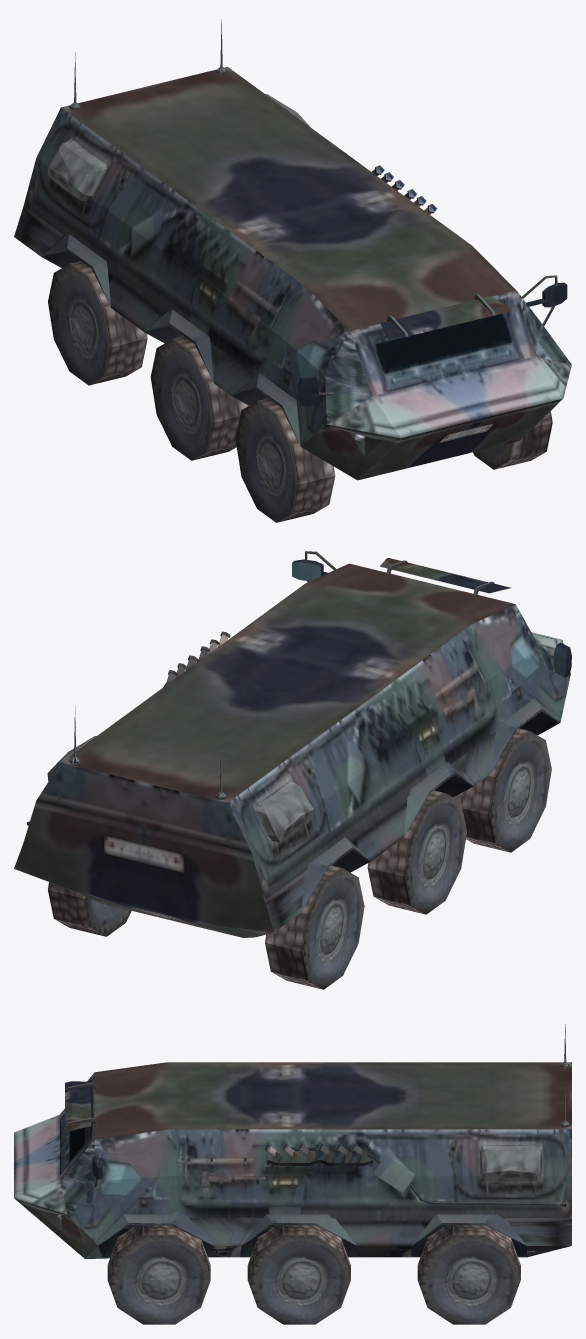
File: TPzFuchs.obj
3 views of the same model, one above another, from view 1: azimuth 30°, elevation 25°; view 2: azimuth 150°, elevation 25°; view 3: azimuth 270°, elevation 25° (orthographic). The views are drawn at different scales.
Parts seen in each view (by area): view 1: TPzFuchs.Base, WheelFroRht, WheelBckRht, WheelMidRht, WindowShield, Luggage, WheelFroLft; view 2: TPzFuchs.Base, WheelBckRht, WheelMidRht, WheelFroRht, Luggage, WheelBckLft, WindowShield; view 3: TPzFuchs.Base, WheelBckLft, WheelMidLft, WheelFroLft, Luggage, WindowShield, Axe, Pickaxe.
Part boxes in pixels (<box>): TPzFuchs.Base: <box>14,19,571,480</box>; WheelFroRht: <box>235,398,335,522</box>; WheelBckRht: <box>48,261,147,385</box>; WheelMidRht: <box>150,336,248,460</box>; WindowShield: <box>380,294,512,340</box>; Luggage: <box>47,94,310,200</box>; WheelFroLft: <box>473,411,552,469</box>; TPzFuchs.Base: <box>14,551,571,937</box>; WheelBckRht: <box>265,865,364,989</box>; WheelMidRht: <box>367,790,466,914</box>; WheelFroRht: <box>453,728,551,852</box>; Luggage: <box>47,736,313,841</box>; WheelBckLft: <box>48,882,131,936</box>; WindowShield: <box>380,558,510,595</box>; TPzFuchs.Base: <box>14,1024,571,1258</box>; WheelBckLft: <box>417,1225,520,1324</box>; WheelMidLft: <box>247,1225,350,1324</box>; WheelFroLft: <box>107,1225,210,1324</box>; Luggage: <box>479,1145,542,1181</box>; WindowShield: <box>65,1081,96,1132</box>; Axe: <box>201,1171,265,1187</box>; Pickaxe: <box>176,1146,253,1175</box>.
Size of the model in its own units: 4.7 by 4.49 by 10.07.
